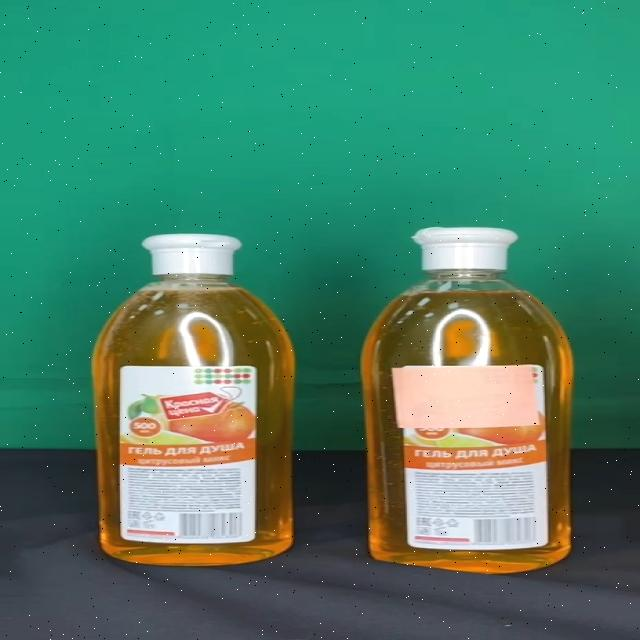Bottle: (361, 227, 572, 574), (92, 235, 298, 567)
Cap: (412, 228, 516, 272), (142, 235, 242, 276)
